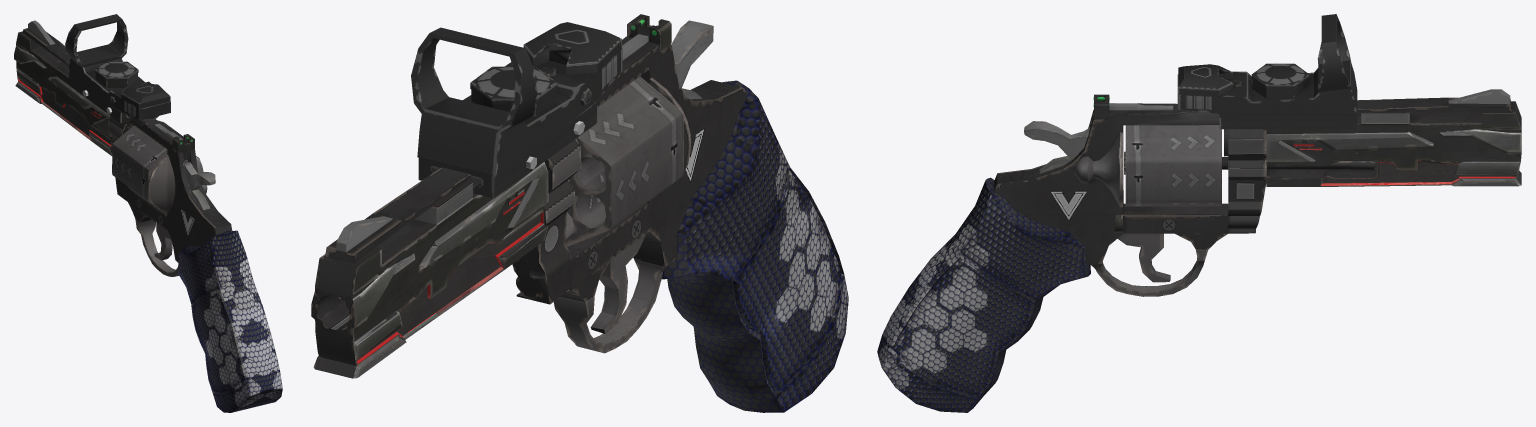
File: w_revolver.glb
3 views of the same model, side by side, from view 1: azimuth 30°, elevation 25°; view 2: azimuth 150°, elevation 25°; view 3: azimuth 270°, elevation 25° (orthographic). The views are drawn at different scales.
Visible parts, largest first — view 1: body; view 2: body; view 3: body.
Part boxes in pixels (<box>): body: <box>14,14,282,412</box>; body: <box>311,14,848,412</box>; body: <box>877,14,1521,412</box>.
Size of the model in its own units: 0.0396 by 0.193 by 0.3.
Materials: 1 (1 with a texture image).
